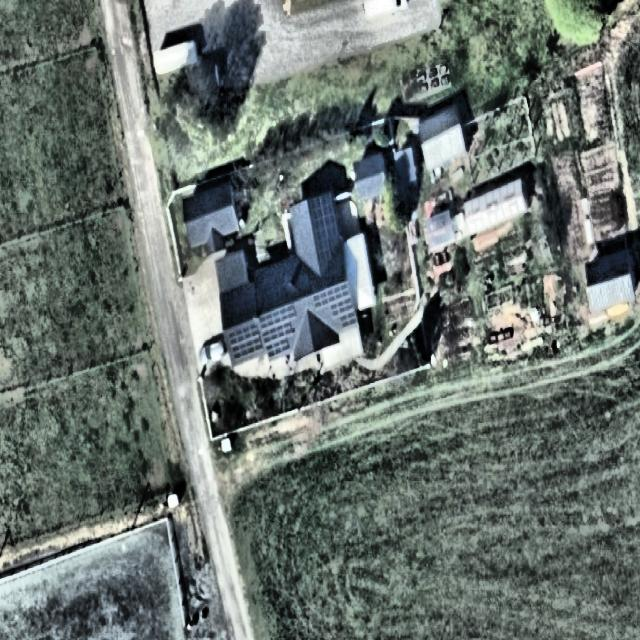roof_pv: (310, 279, 357, 331), (262, 301, 300, 363), (310, 194, 340, 271), (228, 319, 264, 364)
